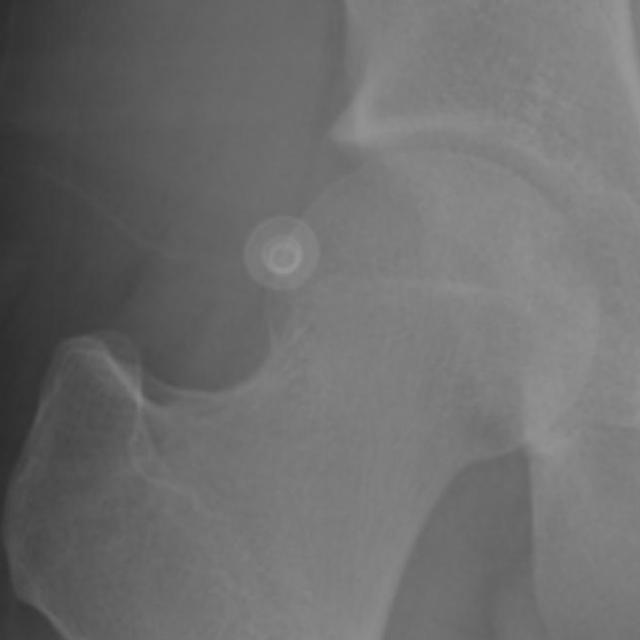Fitted_femural_head: (326, 150, 432, 326)
